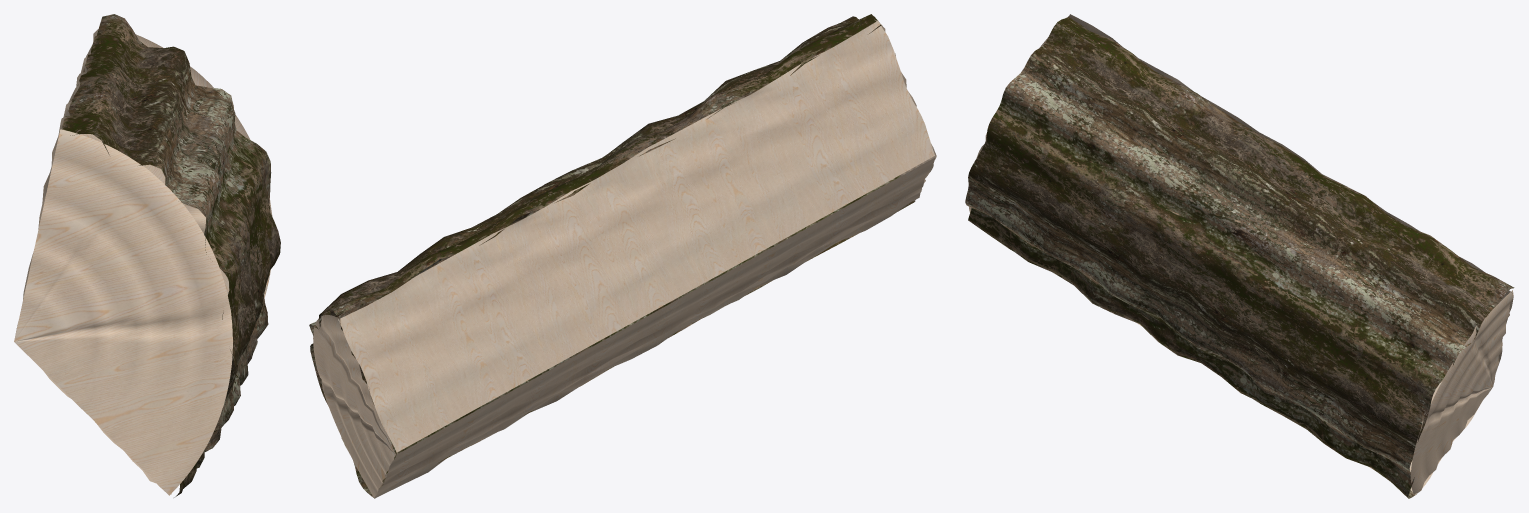
Rendered from roble_seco_v002_candidate.glb.
3 views of the same model, side by side, from view 1: azimuth 30°, elevation 25°; view 2: azimuth 150°, elevation 25°; view 3: azimuth 270°, elevation 25° (orthographic). The views are drawn at different scales.
Visible parts, largest first — view 1: Split seasoned roble - continuous bark / fibre / endgrain; view 2: Split seasoned roble - continuous bark / fibre / endgrain; view 3: Split seasoned roble - continuous bark / fibre / endgrain.
Boxes of the visible parts, <box> form: Split seasoned roble - continuous bark / fibre / endgrain: <box>14,14,280,497</box>; Split seasoned roble - continuous bark / fibre / endgrain: <box>309,14,936,498</box>; Split seasoned roble - continuous bark / fibre / endgrain: <box>965,14,1514,498</box>.
Size of the model in its own units: 0.3363 by 0.3229 by 0.4556.
2 materials, 2 textured.
